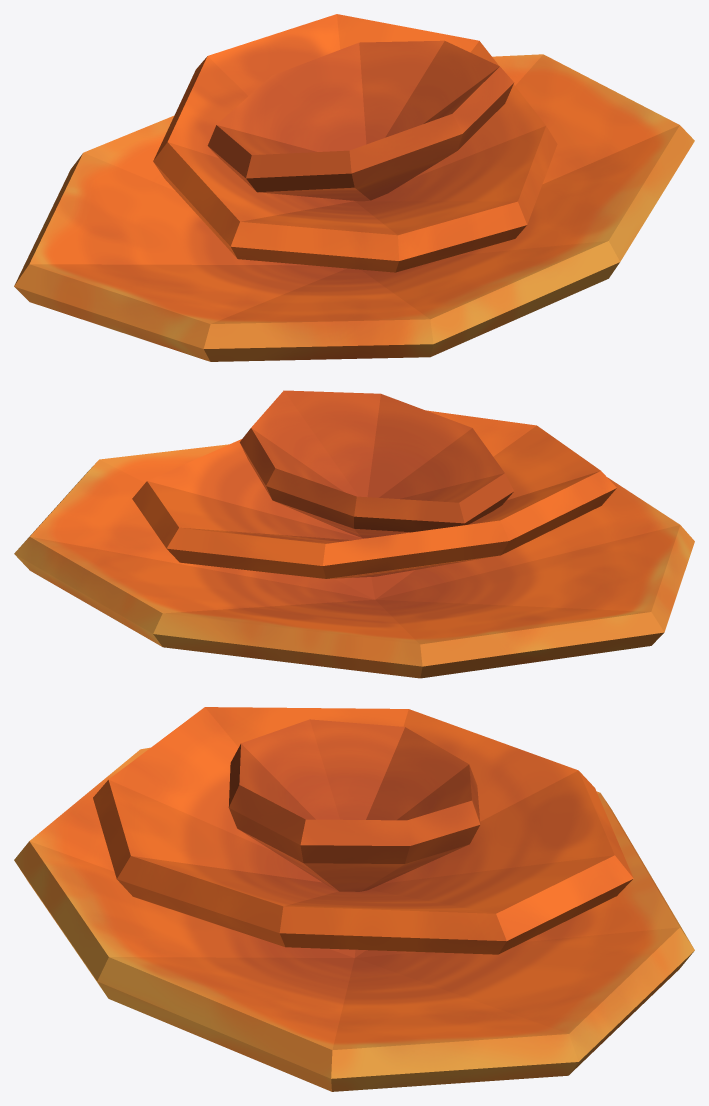
File: Coral_Fan.fbx
3 views of the same model, one above another, from view 1: azimuth 30°, elevation 25°; view 2: azimuth 150°, elevation 25°; view 3: azimuth 270°, elevation 25° (orthographic). The views are drawn at different scales.
Visible parts, largest first — view 1: Coral_fan; view 2: Coral_fan; view 3: Coral_fan.
Boxes of the visible parts, <box> form: Coral_fan: <box>14,14,694,361</box>; Coral_fan: <box>14,390,694,678</box>; Coral_fan: <box>14,707,694,1091</box>.
Size of the model in its own units: 231 by 74.64 by 186.
